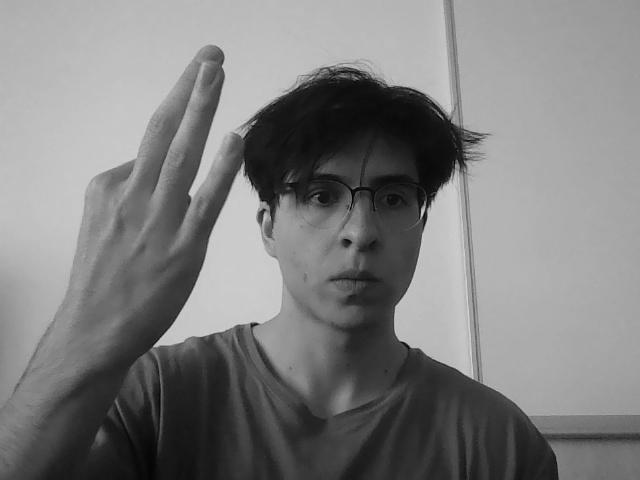OK: (56, 72, 262, 346)
